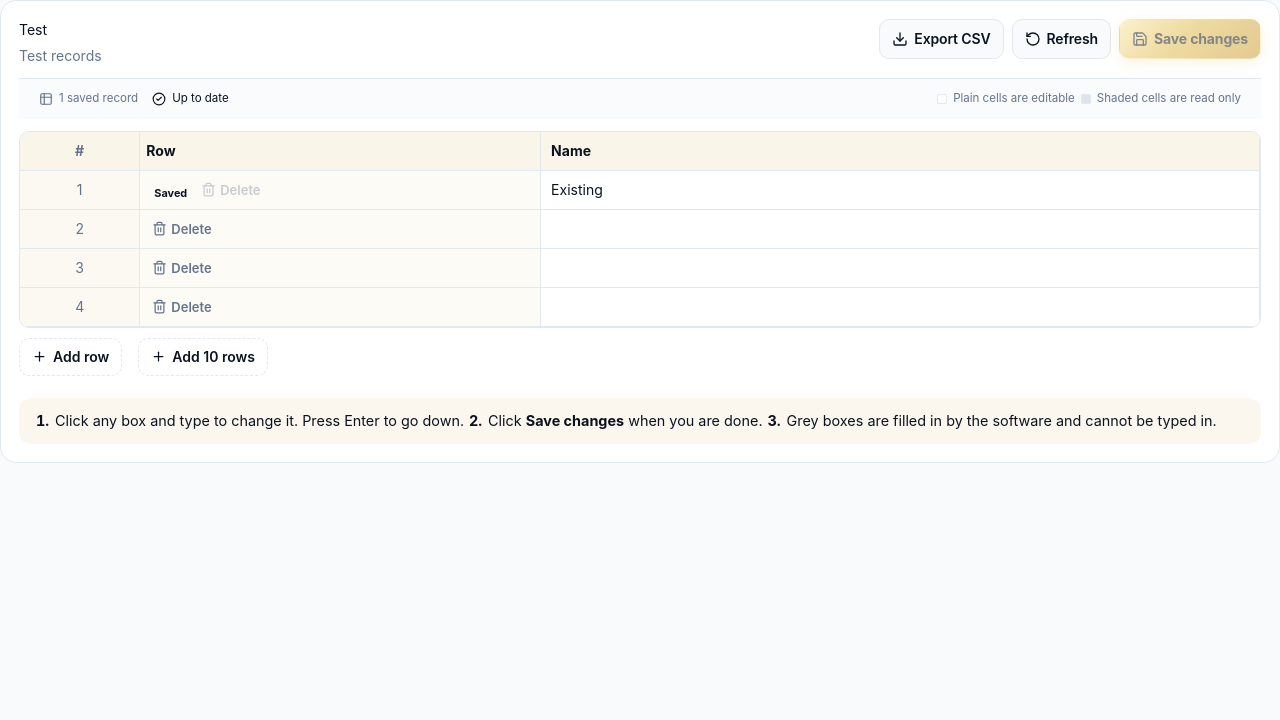
Scenario: refuses to overwrite a saved record changed elsewhere
Replace the text in the field named "Name row 1" with "My edit": (900, 190) [541, 171, 1259, 209]
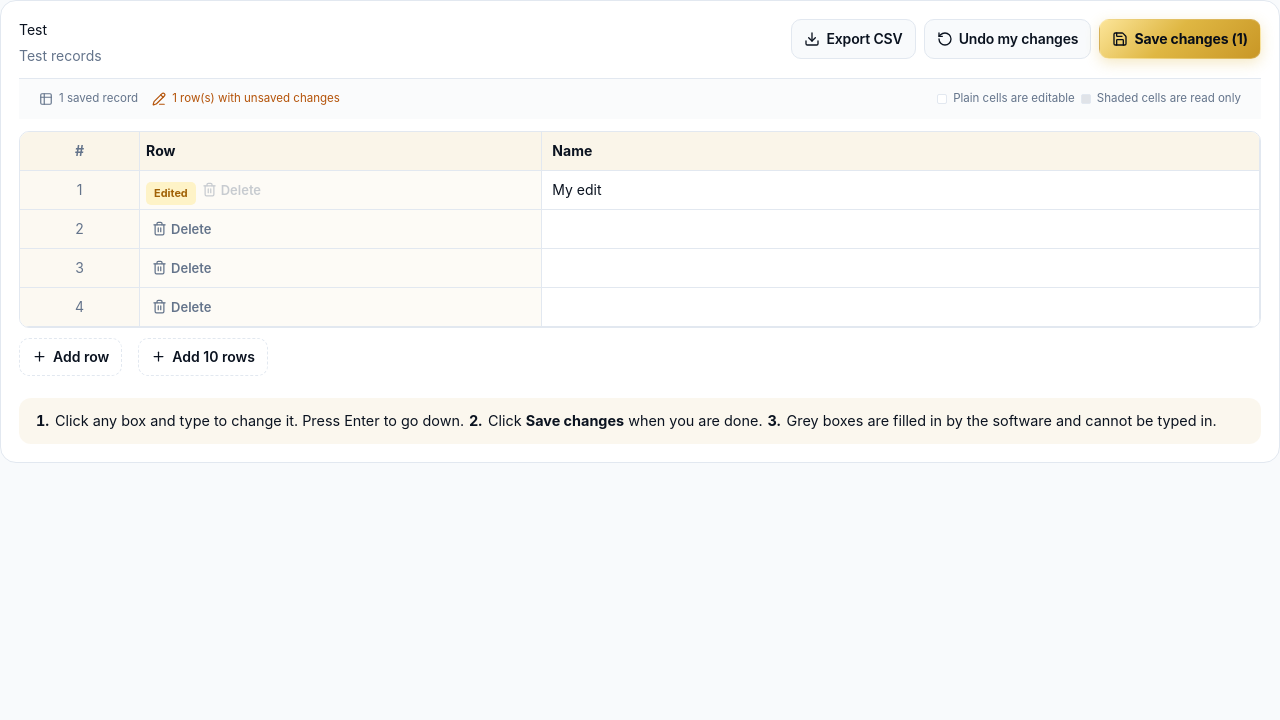
Click the button "Save changes (1)": (1180, 39) [1099, 19, 1261, 59]
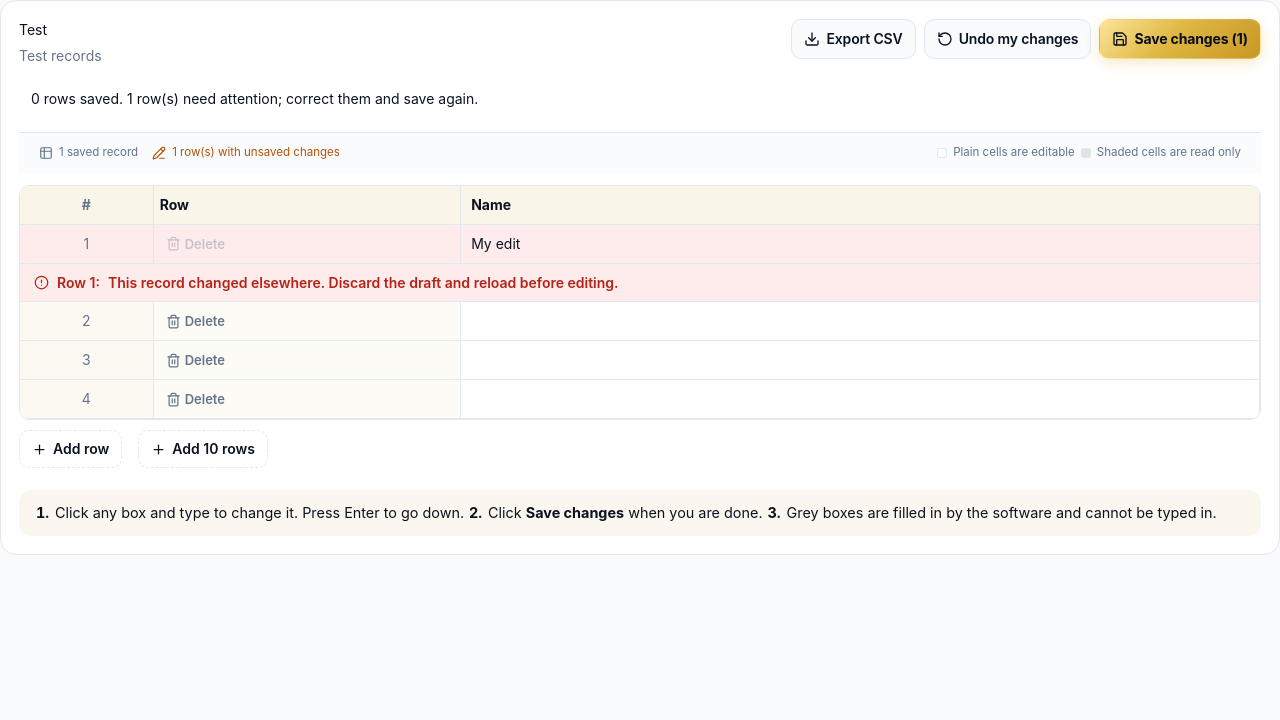
Expected: the text "This record changed elsewhere" is shown, [108, 274, 618, 291]
